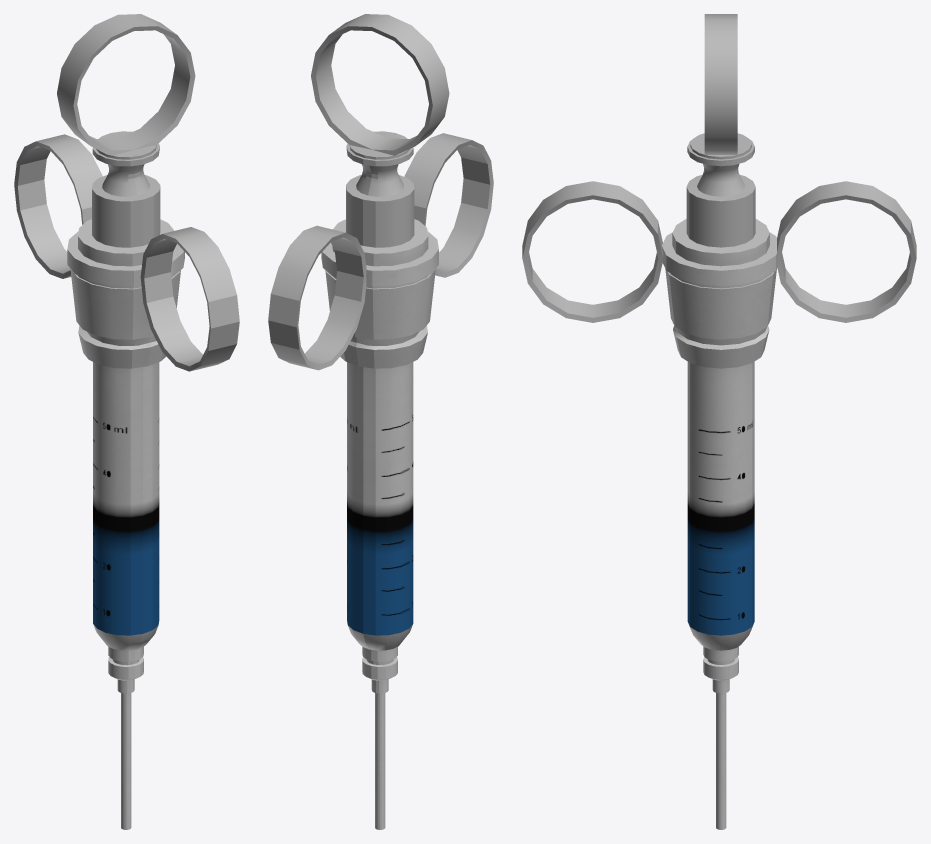
Rendered from Syringe1.fbx.
The picture shows the model from 3 angles, left to right: view 1: azimuth 30°, elevation 25°; view 2: azimuth 150°, elevation 25°; view 3: azimuth 270°, elevation 25°; orthographic projection.
Visible parts, largest first — view 1: Cylinder.012; view 2: Cylinder.012; view 3: Cylinder.012.
Part boxes in pixels (x1,y1,x2,y2): Cylinder.012: (14, 14, 239, 829); Cylinder.012: (268, 14, 493, 829); Cylinder.012: (522, 14, 916, 829).
Bounding box in the file's own units: 5.18 × 32.74 × 14.48.
